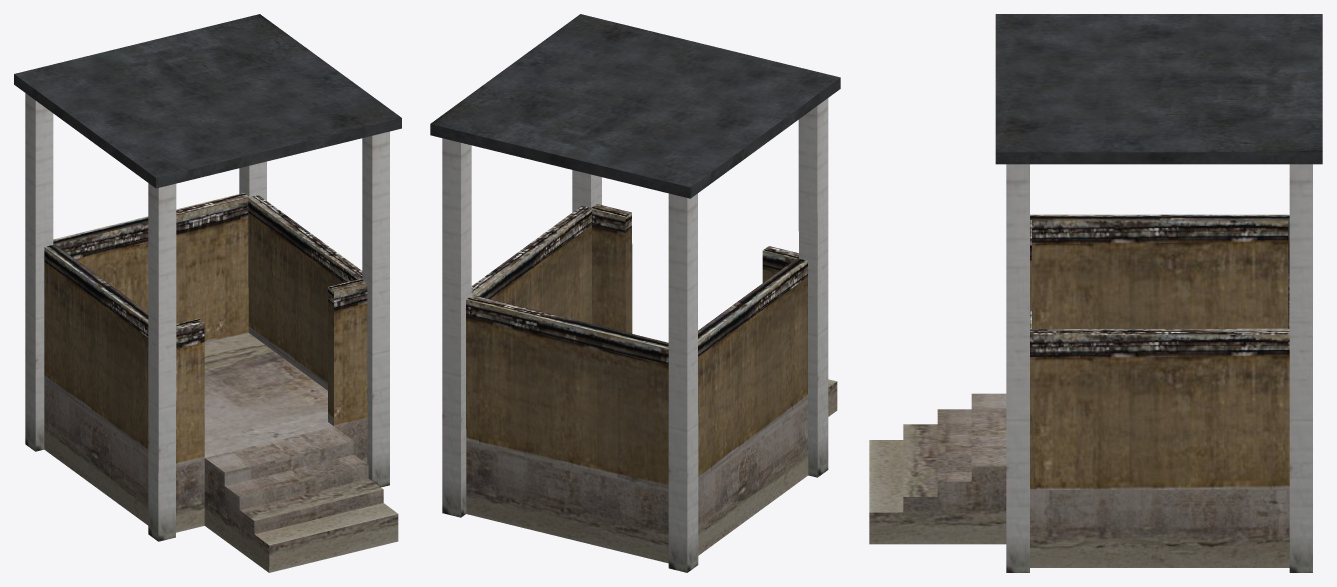
File: guard post.obj
3 renders of one model, left to right at view 1: azimuth 30°, elevation 25°; view 2: azimuth 150°, elevation 25°; view 3: azimuth 270°, elevation 25°, orthographic. The views are drawn at different scales.
Parts seen in each view (by area): view 1: mesh01; view 2: mesh01; view 3: mesh01.
Boxes of the visible parts, box(x1,y1,x2,y2) form: mesh01: box(14, 14, 401, 572); mesh01: box(430, 14, 840, 572); mesh01: box(869, 14, 1322, 572).
Size of the model in its own units: 1.91 by 2.74 by 2.65.
1 material, 1 textured.
